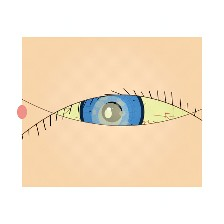corneal_ulcer: (90, 99, 131, 132)
